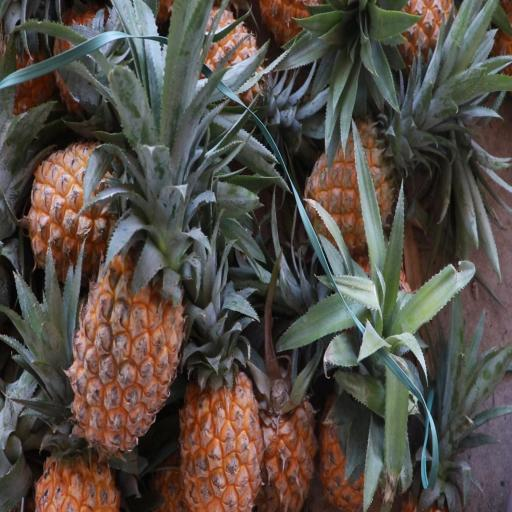Pineapple - v8 v1: (68, 215, 190, 458), (25, 133, 164, 293), (305, 114, 404, 268), (177, 357, 265, 512), (32, 366, 120, 512), (265, 364, 319, 512)
